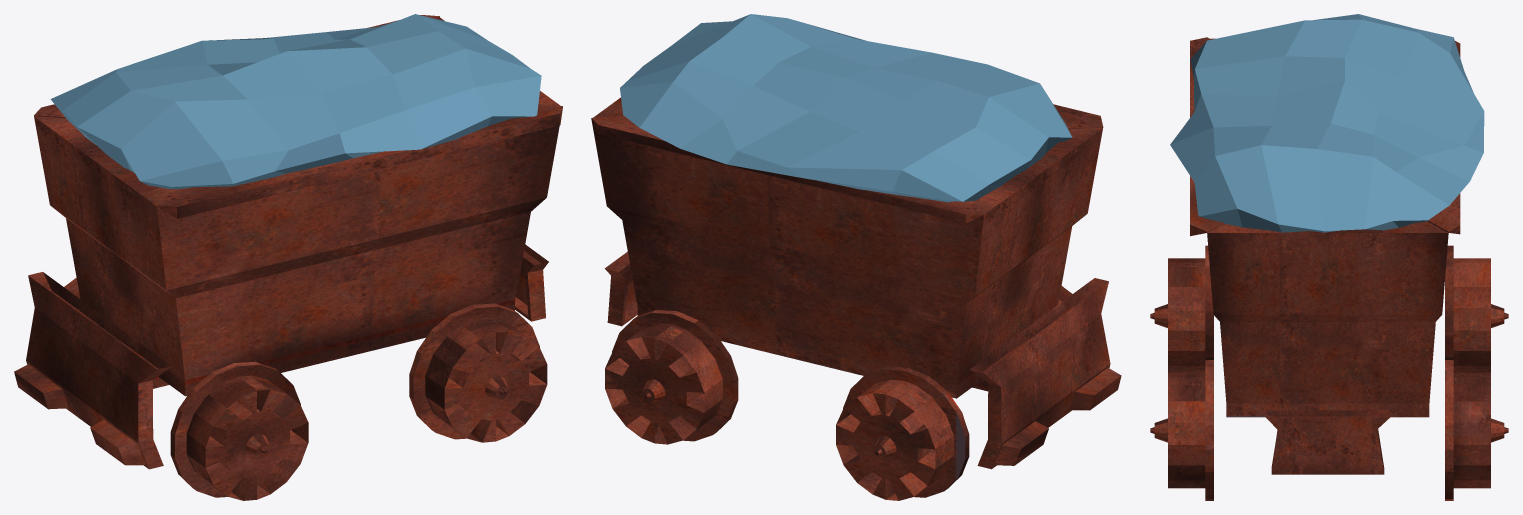
File: KartW_Water.fbx
The picture shows the model from 3 angles, left to right: view 1: azimuth 30°, elevation 25°; view 2: azimuth 150°, elevation 25°; view 3: azimuth 270°, elevation 25°; orthographic projection. The views are drawn at different scales.
Parts seen in each view (by area): view 1: MiningKart; view 2: MiningKart; view 3: MiningKart.
Part boxes in pixels (x1,y1,x2,y2): MiningKart: [14, 14, 562, 500]; MiningKart: [591, 14, 1121, 500]; MiningKart: [1150, 14, 1508, 500].
Bounding box in the file's own units: 423 × 327 × 297.
